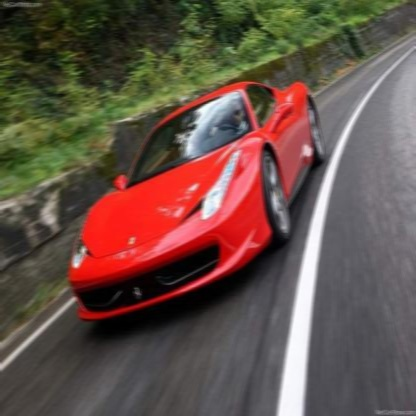Vehicle: (60, 80, 326, 319)
